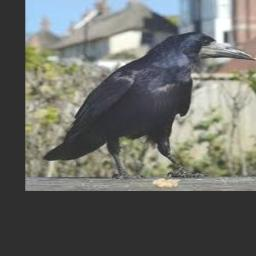Crow: (44, 30, 256, 179)
